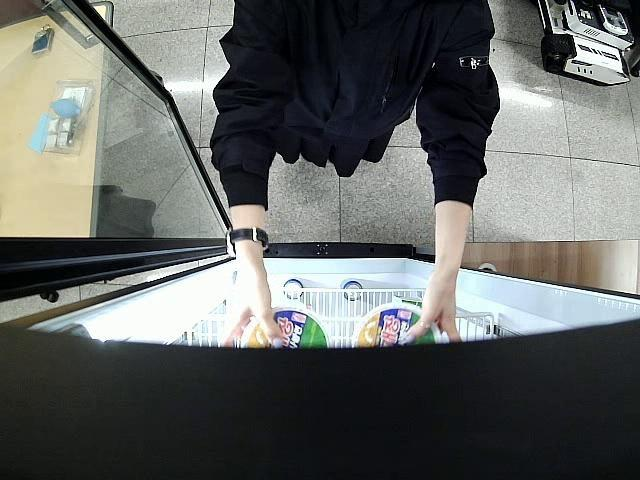09_yukGaeJang: (242, 303, 332, 350), (352, 302, 442, 346)
